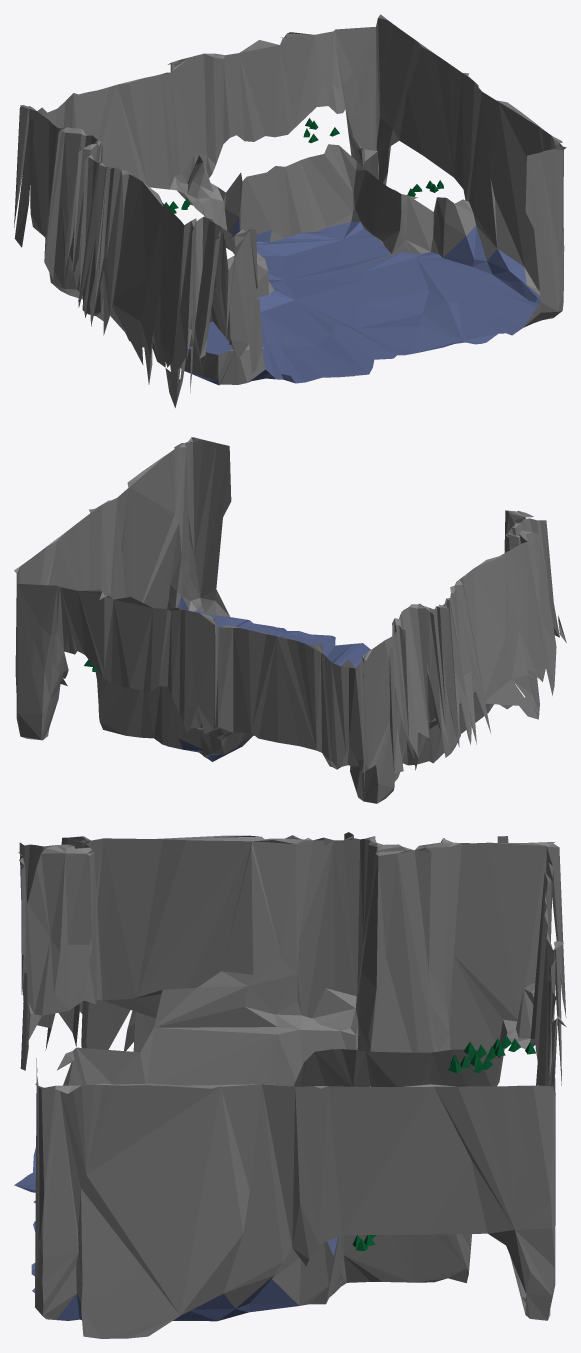
Rendered from CutoutMountainRoom.fbx.
3 views of the same model, one above another, from view 1: azimuth 30°, elevation 25°; view 2: azimuth 150°, elevation 25°; view 3: azimuth 270°, elevation 25° (orthographic). The views are drawn at different scales.
Visible parts, largest first — view 1: Object002, Object001; view 2: Object002, Object001; view 3: Object002, Object001.
Boxes of the visible parts, x1,y1,x2,y2 form: Object002: (14,14,566,407); Object001: (186,217,540,385); Object002: (14,437,566,803); Object001: (178,596,370,761); Object002: (18,832,566,1338); Object001: (14,1083,337,1321).
Size of the model in its own units: 9180 by 4136 by 7854.
